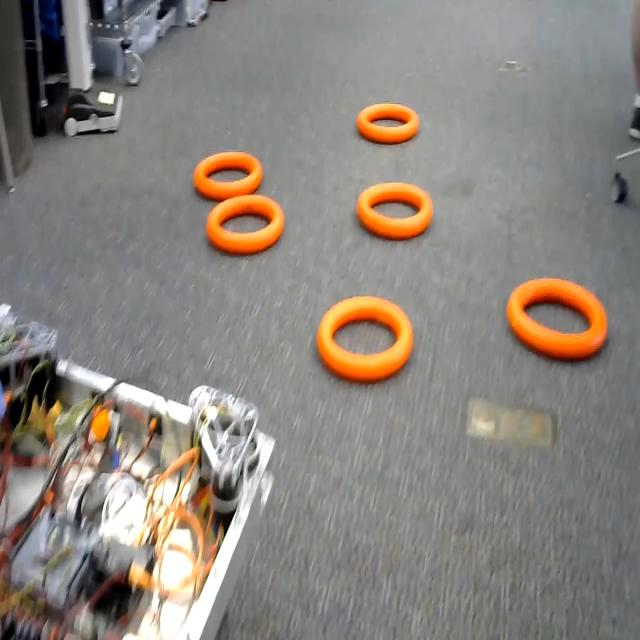note: (499, 264, 615, 370), (313, 288, 417, 392), (354, 176, 438, 246), (208, 198, 282, 256), (188, 146, 272, 194), (355, 92, 424, 144)
